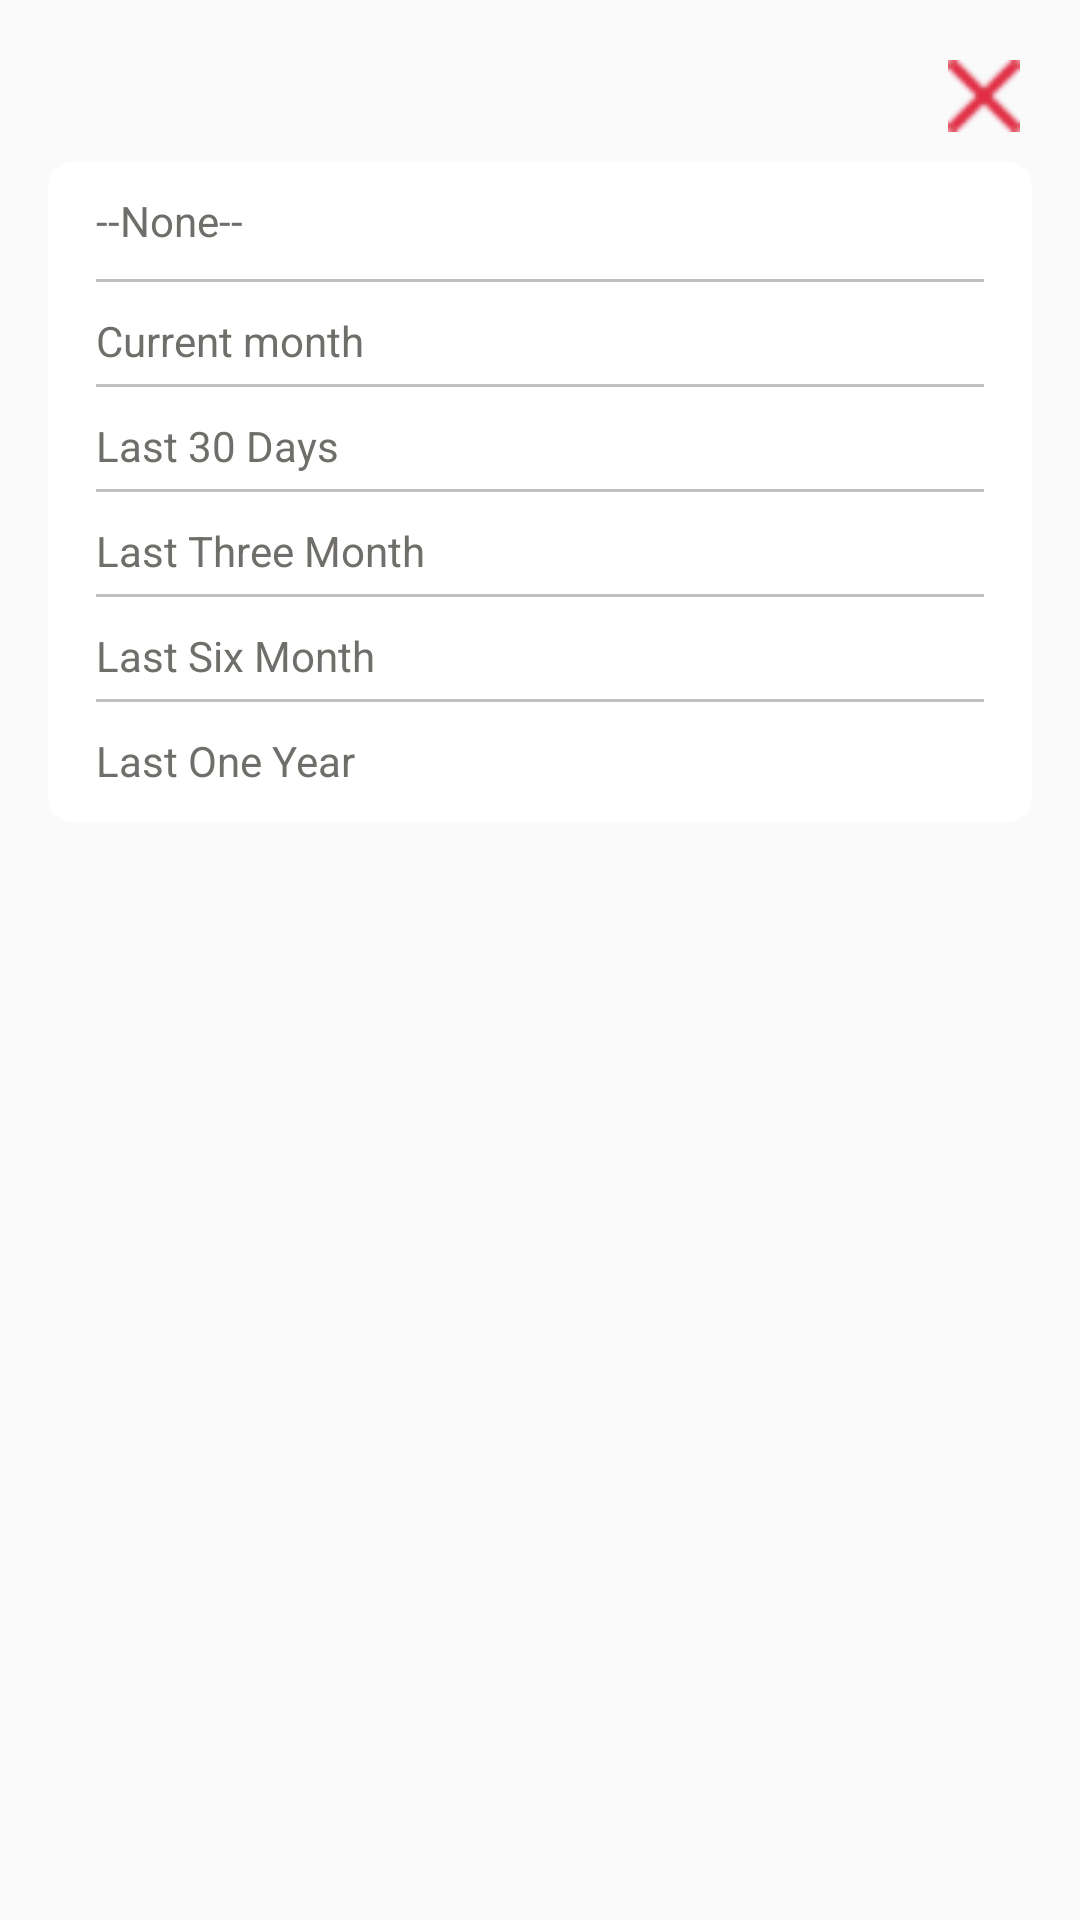

Icon click points for this 1080w x 1920h phone screenshot, format (x,y):
close: (984,96)
